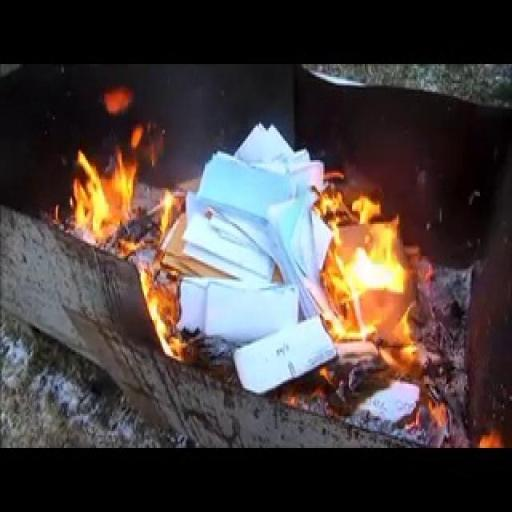smoke: (306, 156, 436, 362), (39, 76, 177, 266)
